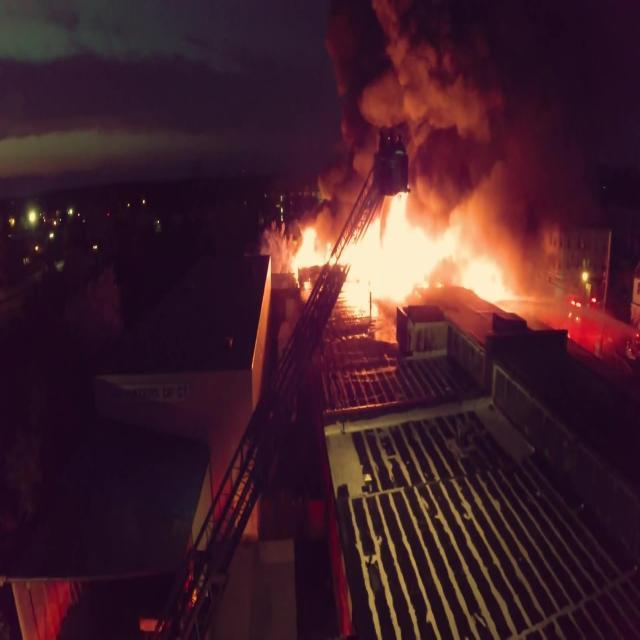Fire: (282, 187, 518, 311)
Smoke: (290, 0, 616, 273)
